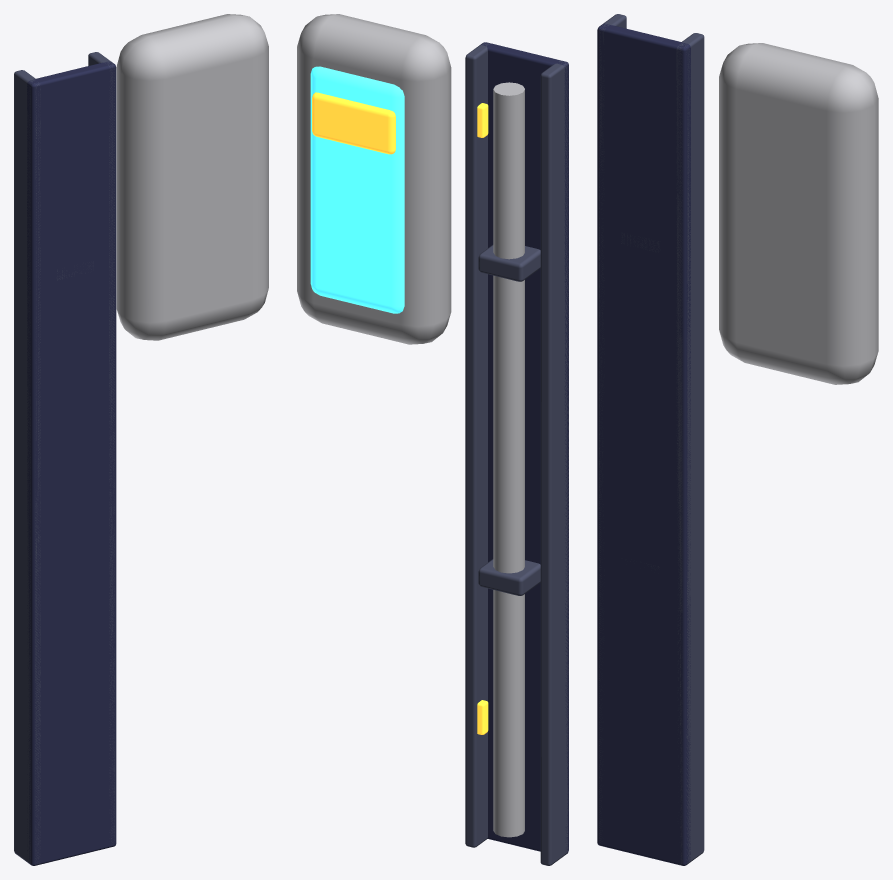
File: prop.props_walls.walls_qb_head.glb
3 views of the same model, side by side, from view 1: azimuth 30°, elevation 25°; view 2: azimuth 150°, elevation 25°; view 3: azimuth 330°, elevation 25° (orthographic). The views are drawn at different scales.
Parts seen in each view (by area): view 1: prop.props_walls.walls_qb_head; view 2: prop.props_walls.walls_qb_head; view 3: prop.props_walls.walls_qb_head.
Part boxes in pixels (bbox=[...]): prop.props_walls.walls_qb_head: bbox=[14, 14, 268, 865]; prop.props_walls.walls_qb_head: bbox=[297, 14, 568, 865]; prop.props_walls.walls_qb_head: bbox=[597, 14, 878, 865].
Bounding box in the file's own units: 0.365 × 1.1 × 0.1.
